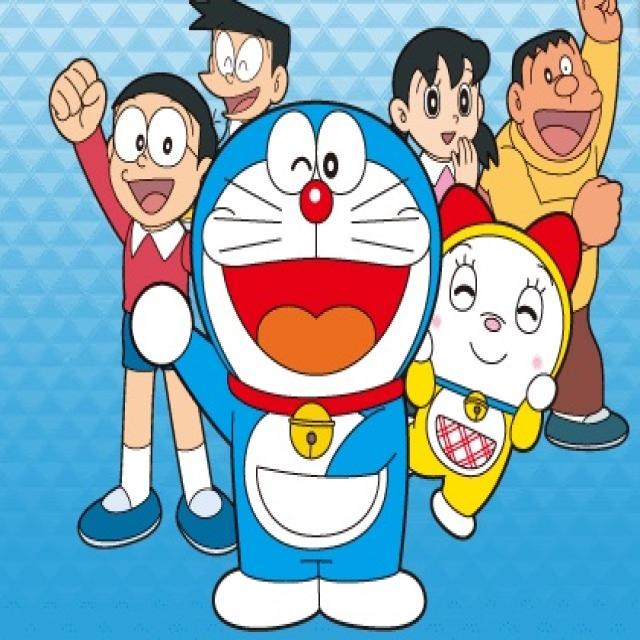doraemon: (178, 85, 450, 489)
jaian: (492, 12, 617, 193)
nobita: (86, 50, 240, 274)
shizuka: (382, 12, 504, 183)
